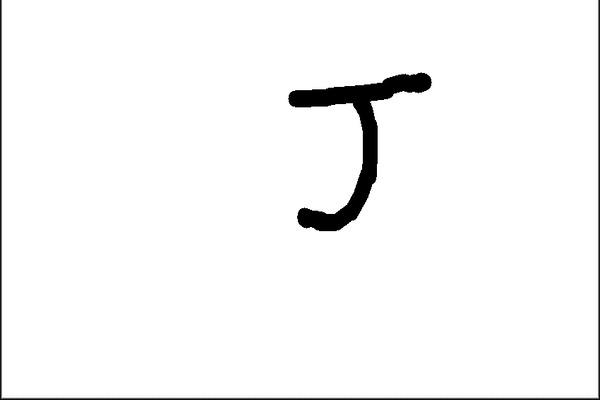J: (282, 67, 434, 235)
